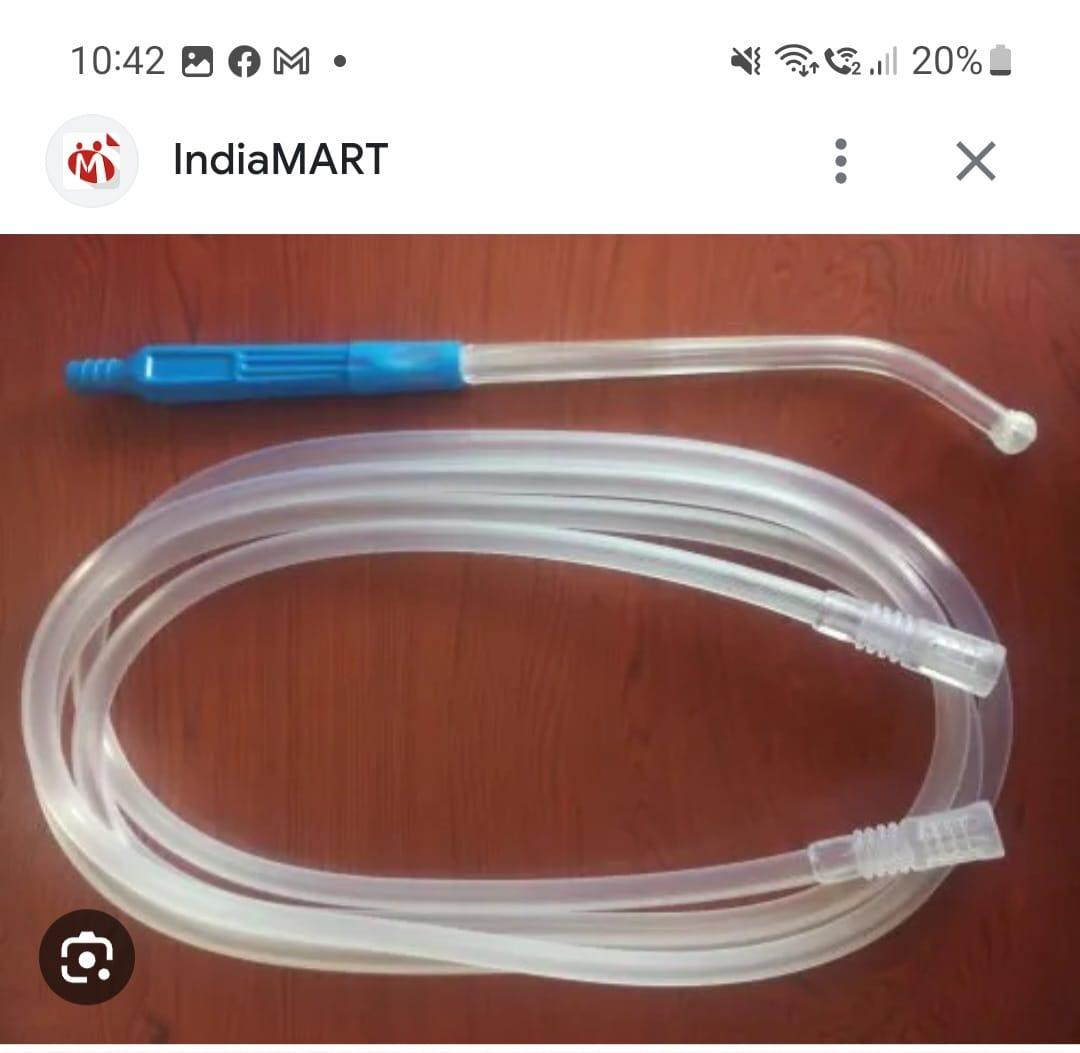Suction Tube Nozzle: (32, 323, 1045, 940)
